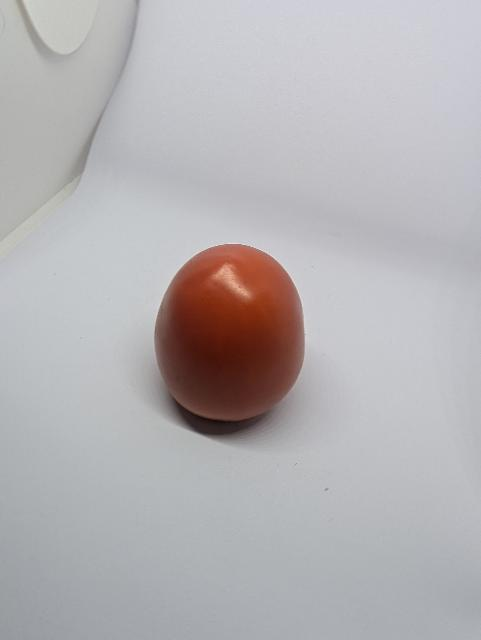red: (138, 227, 338, 446)
